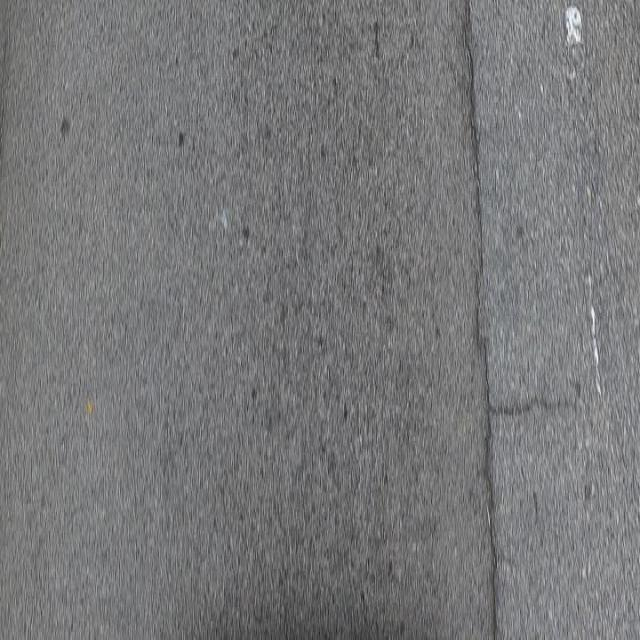cracks: (424, 0, 586, 640)
